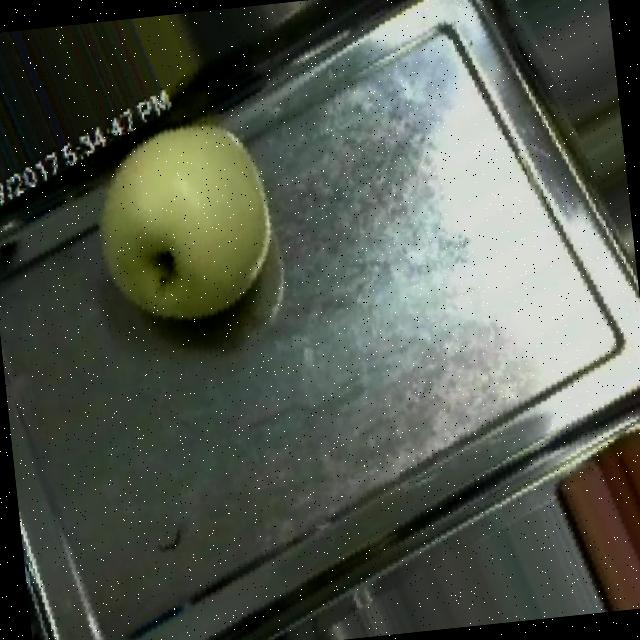apple: (64, 107, 311, 362)
